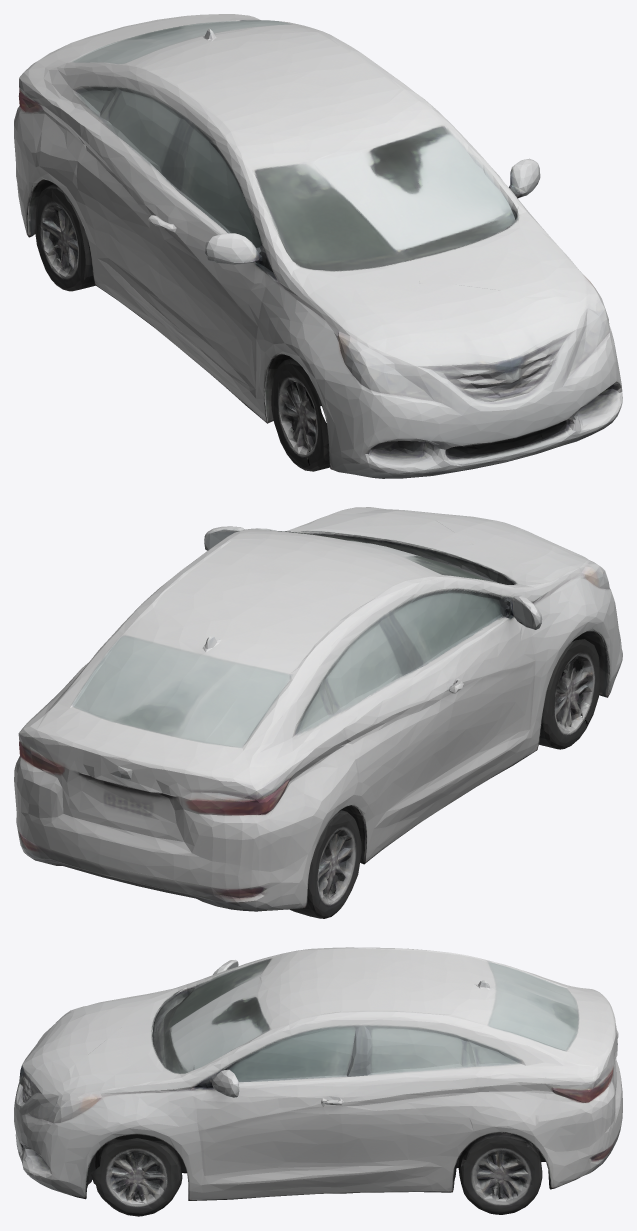
The model's file is sonata.glb.
3 views of the same model, one above another, from view 1: azimuth 30°, elevation 25°; view 2: azimuth 150°, elevation 25°; view 3: azimuth 270°, elevation 25° (orthographic). The views are drawn at different scales.
Parts seen in each view (by area): view 1: world; view 2: world; view 3: world.
Part boxes in pixels (<box>): world: <box>14,14,622,478</box>; world: <box>14,507,622,918</box>; world: <box>14,947,622,1216</box>.
Size of the model in its own units: 0.4865 by 0.3406 by 0.9989.
Materials: 1 (1 with a texture image).
